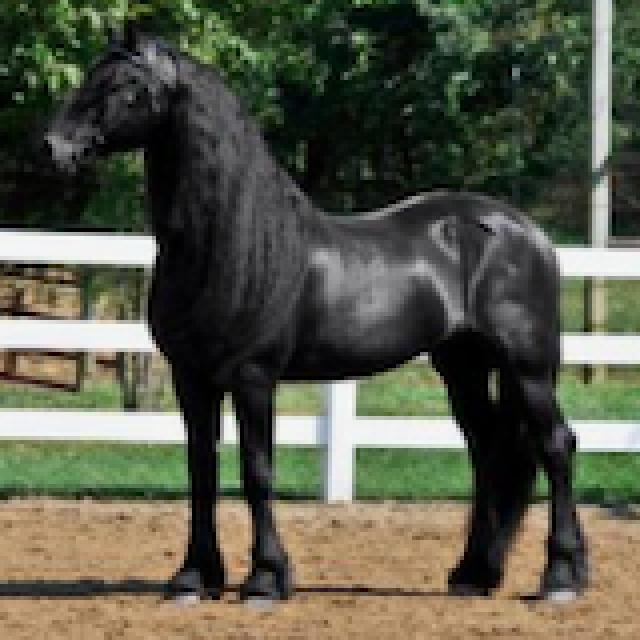Horse: (32, 16, 600, 612)
